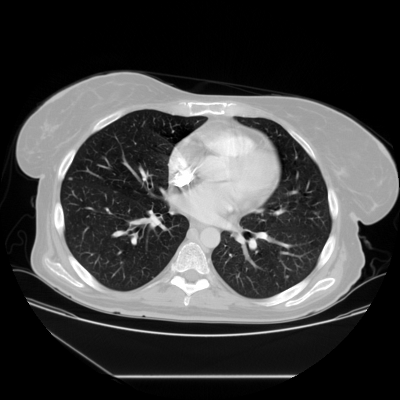nodule: (68, 176, 72, 180)
